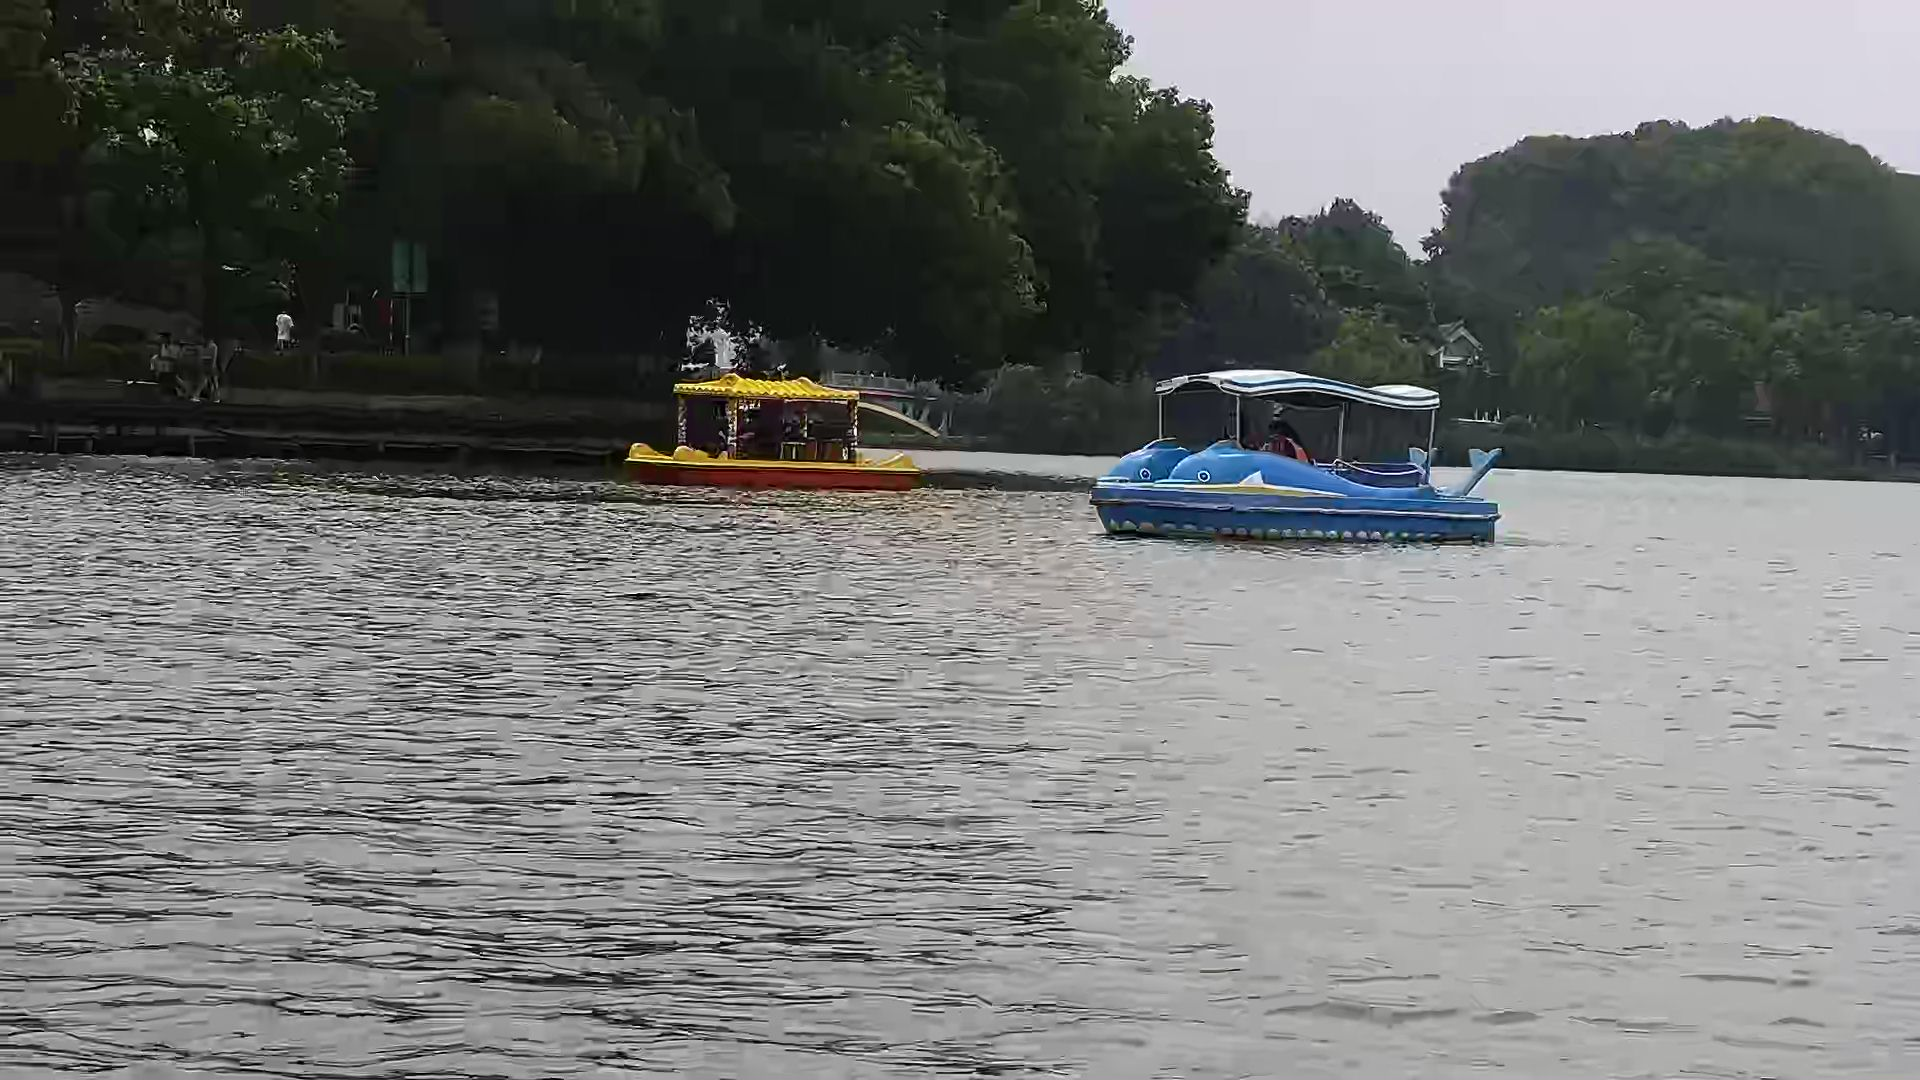boat: (1089, 356, 1507, 551), (618, 375, 923, 493)
